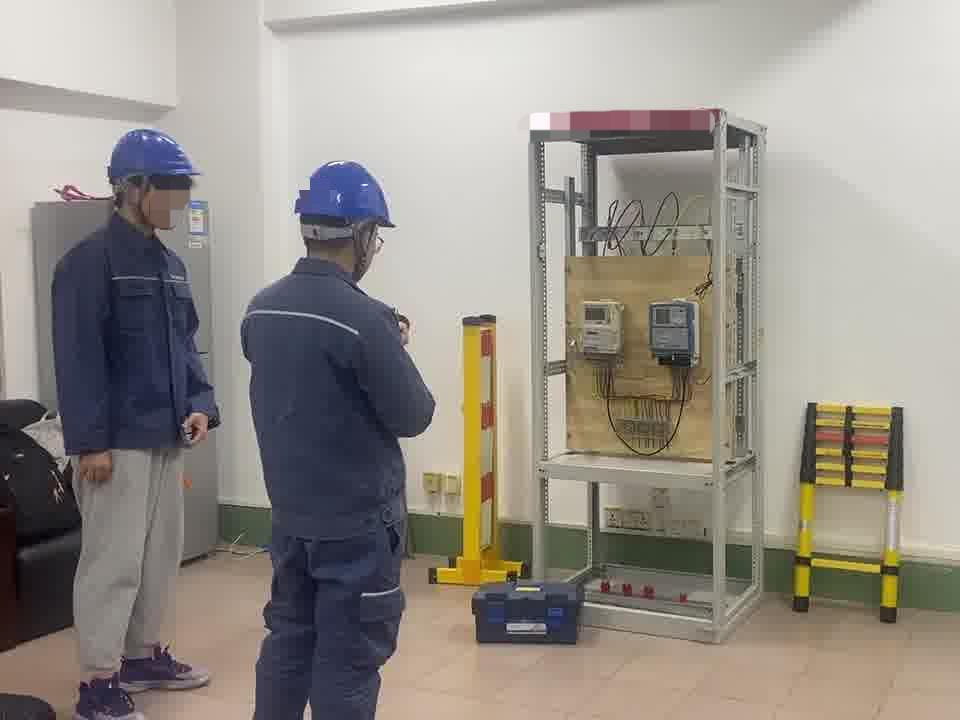halt: (294, 160, 399, 279), (107, 129, 203, 234)
inear: (119, 172, 156, 219), (350, 222, 379, 273)
